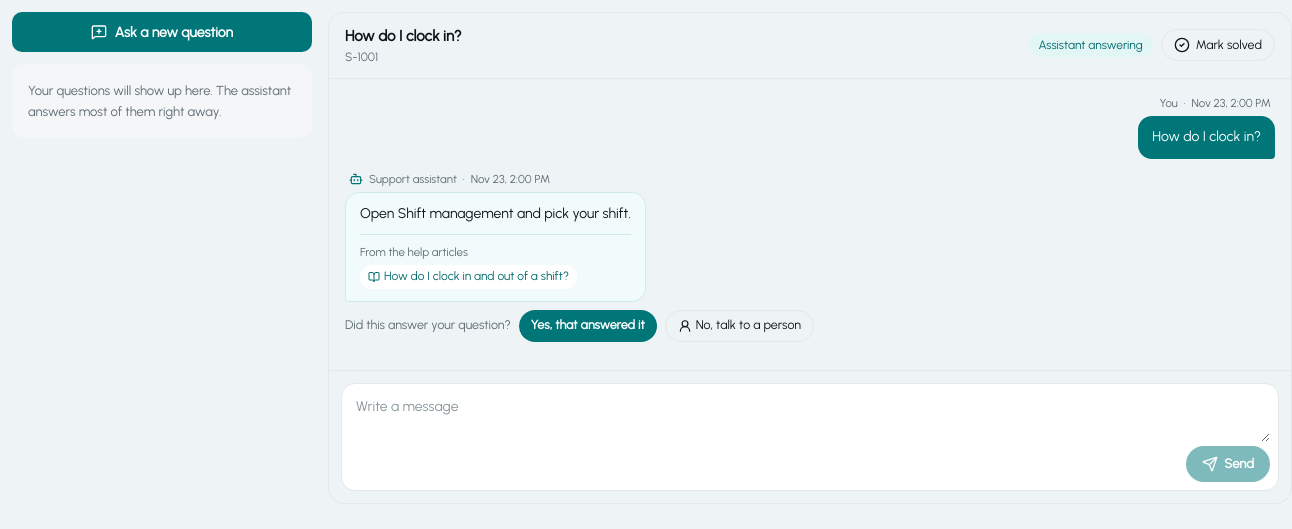
Test case: AskSupportPanel › 'No, talk to a person' sends negative feedback
Click the button "No, talk to a person" at x=739, y=326, box [665,310,814,342]
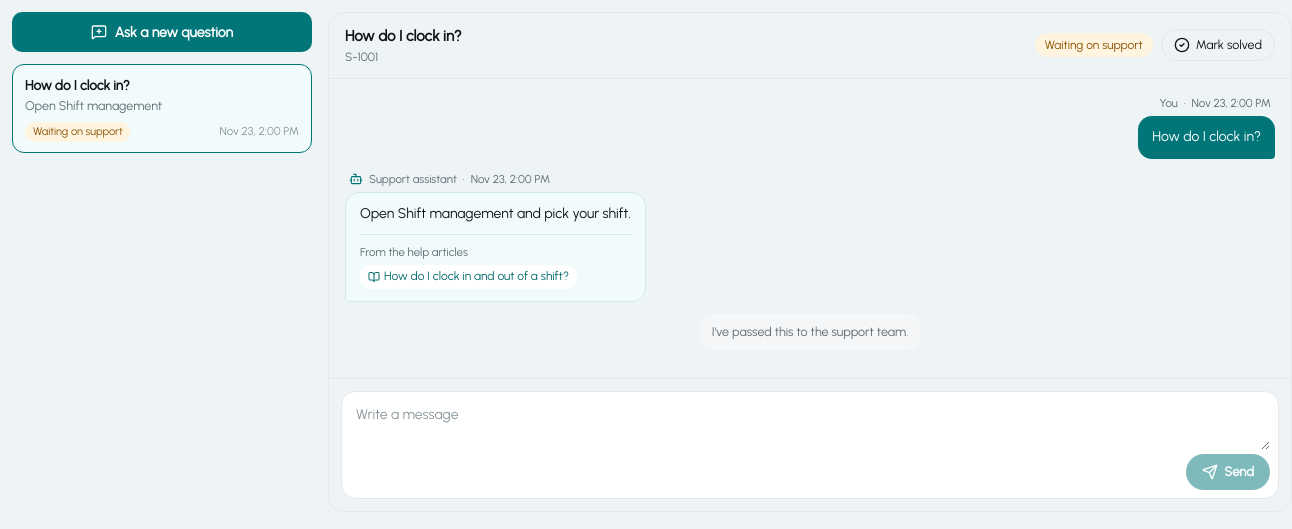
Expected: the list item "I've passed this to the support team." is shown, [700,314,920,350]
Expected: the button "Yes, that answered it" is gone
